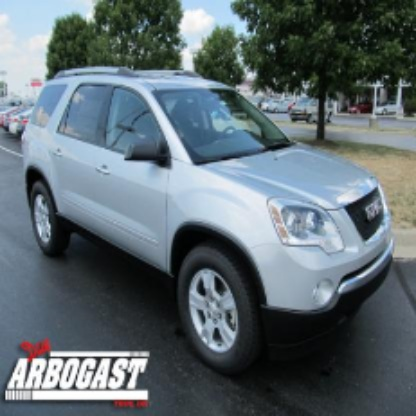Vehicle: (20, 67, 395, 373)
